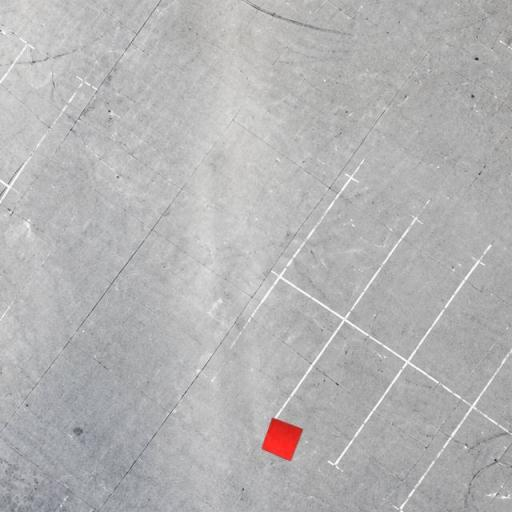RED_SQUARE: (261, 417, 304, 462)
